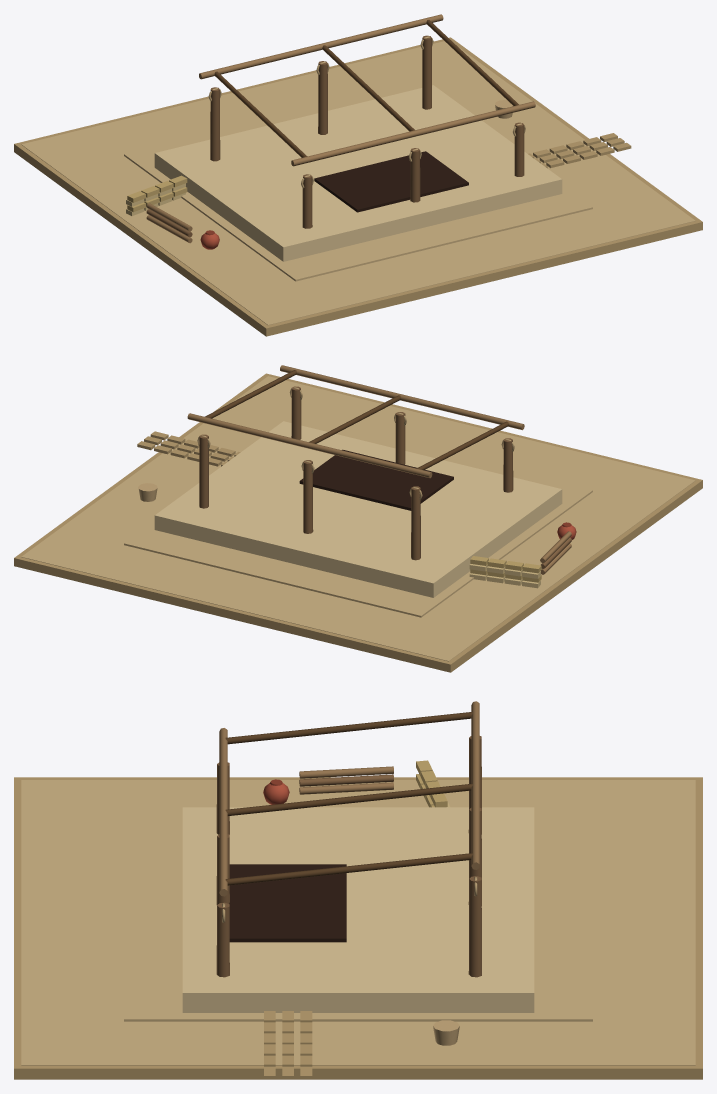
File: rad-1-construction.glb
The picture shows the model from 3 angles, top to bottom: view 1: azimuth 30°, elevation 25°; view 2: azimuth 150°, elevation 25°; view 3: azimuth 270°, elevation 25°; orthographic projection. The views are drawn at different scales.
Bounding box in the file's own units: 24.57 × 5.88 × 23.5.
13 materials, 1 textured.
